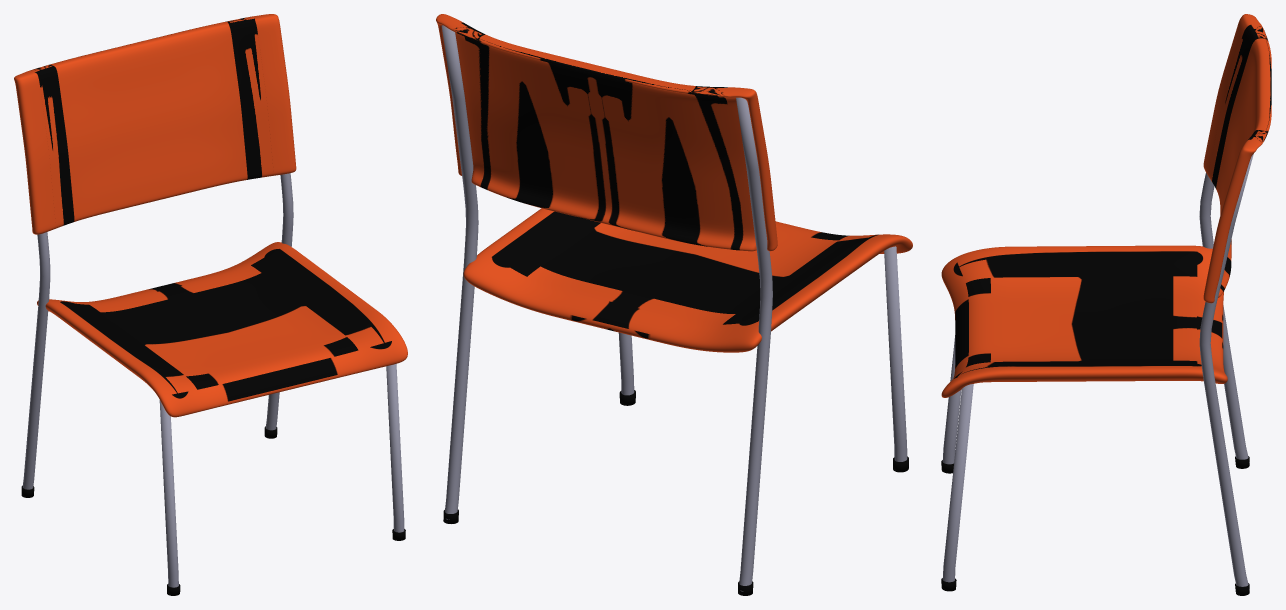
Rendered from CADEIRA BÁSICA DA BIBLIOTECA.fbx.
The picture shows the model from 3 angles, left to right: view 1: azimuth 30°, elevation 25°; view 2: azimuth 150°, elevation 25°; view 3: azimuth 270°, elevation 25°; orthographic projection. The views are drawn at different scales.
Visible parts, largest first — view 1: Cube.003, Cube.002, Cylinder.001, Cylinder.003; view 2: Cube.003, Cube.002, Cylinder.001, Cylinder.003; view 3: Cube.002, Cube.003, Cylinder.001, Cylinder.003.
Part boxes in pixels (left/top/right/bottom): Cube.003: left=14, top=14, right=296, bottom=234; Cube.002: left=37, top=242, right=407, bottom=417; Cylinder.001: left=22, top=173, right=404, bottom=587; Cylinder.003: left=21, top=426, right=405, bottom=595; Cube.003: left=436, top=14, right=777, bottom=251; Cube.002: left=463, top=208, right=912, bottom=352; Cylinder.001: left=441, top=25, right=907, bottom=591; Cylinder.003: left=443, top=390, right=908, bottom=595; Cube.002: left=941, top=245, right=1227, bottom=397; Cube.003: left=1203, top=14, right=1271, bottom=303; Cylinder.001: left=942, top=154, right=1253, bottom=589; Cylinder.003: left=941, top=456, right=1249, bottom=595.
Bounding box in the file's own units: 0.9719 × 1.48 × 0.9918.
4 materials, 4 textured.
